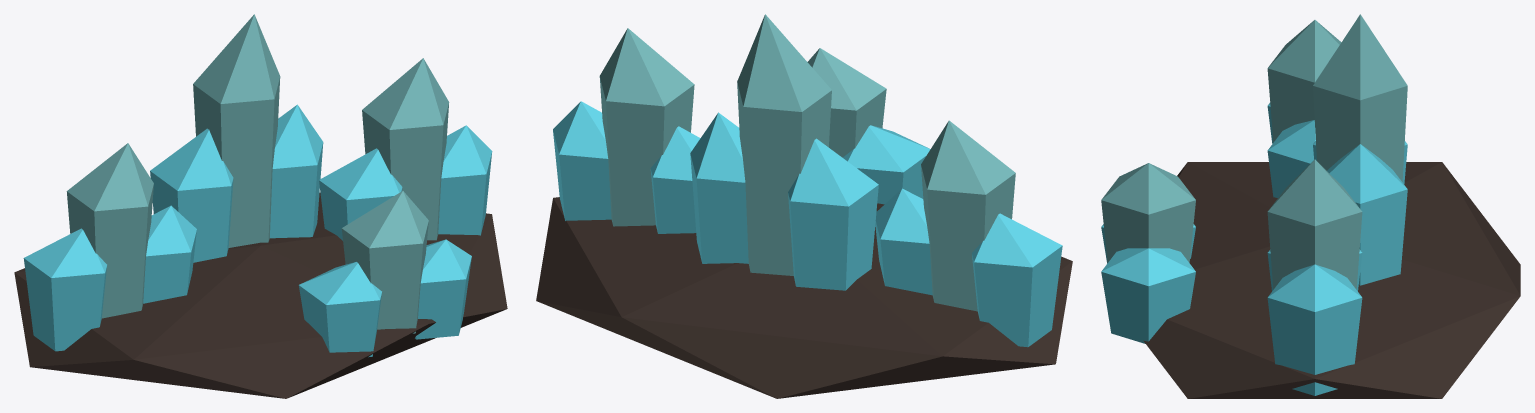
Rendered from reef_coral.glb.
The picture shows the model from 3 angles, left to right: view 1: azimuth 30°, elevation 25°; view 2: azimuth 150°, elevation 25°; view 3: azimuth 270°, elevation 25°; orthographic projection. The views are drawn at different scales.
Visible parts, largest first — view 1: reef_coral; view 2: reef_coral; view 3: reef_coral.
Part boxes in pixels (<box>): reef_coral: <box>14,14,507,398</box>; reef_coral: <box>536,14,1072,398</box>; reef_coral: <box>1101,14,1520,398</box>.
Bounding box in the file's own units: 0.3758 × 0.225 × 0.2775.
